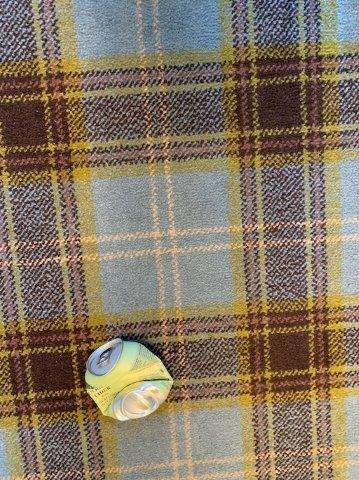kaleng: (84, 338, 174, 421)
